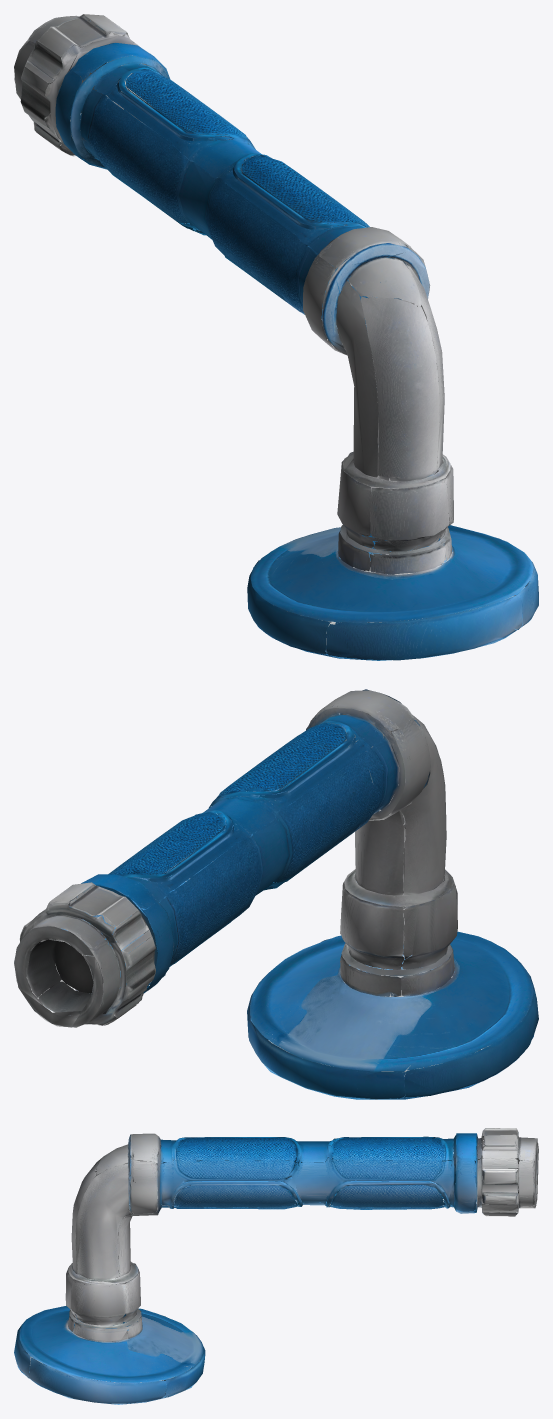
File: Player_HandheldSprayer.fbx
3 views of the same model, one above another, from view 1: azimuth 30°, elevation 25°; view 2: azimuth 150°, elevation 25°; view 3: azimuth 270°, elevation 25° (orthographic). The views are drawn at different scales.
Parts seen in each view (by area): view 1: Player_HandheldSprayer; view 2: Player_HandheldSprayer; view 3: Player_HandheldSprayer.
Boxes of the visible parts, <box> form: Player_HandheldSprayer: <box>14,14,538,660</box>; Player_HandheldSprayer: <box>14,689,538,1099</box>; Player_HandheldSprayer: <box>14,1128,538,1404</box>.
Bounding box in the file's own units: 16.58 × 23.5 × 46.88.
1 material, 1 textured.
